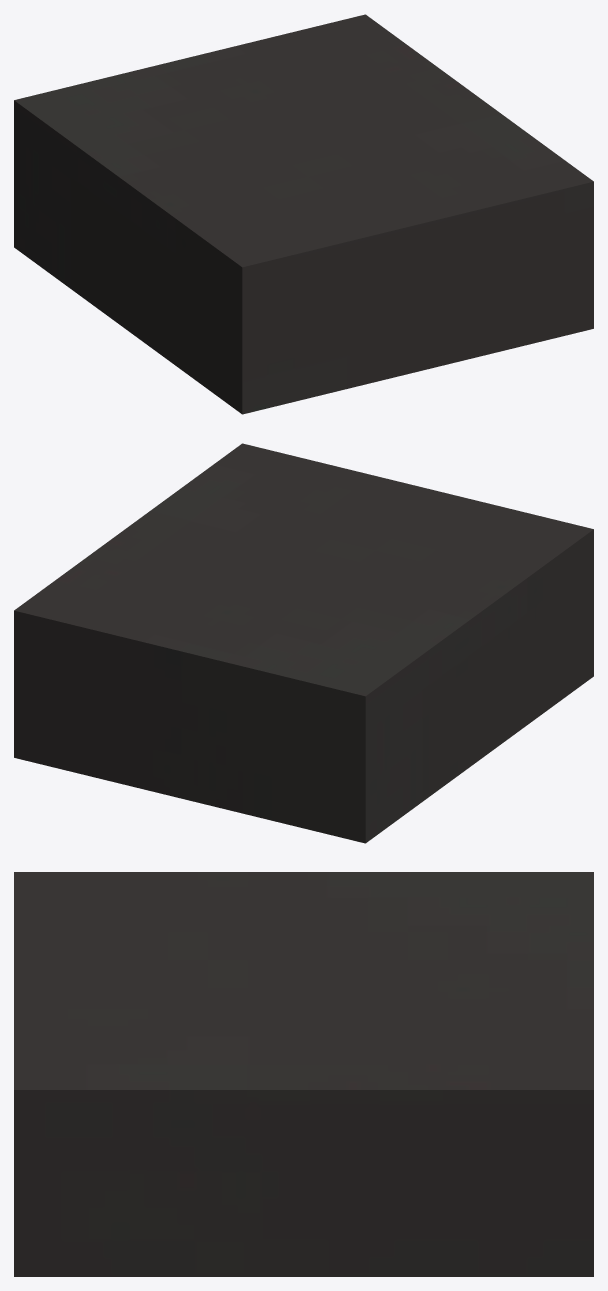
File: back_pad__hinge_web_0.glb
The picture shows the model from 3 angles, top to bottom: view 1: azimuth 30°, elevation 25°; view 2: azimuth 150°, elevation 25°; view 3: azimuth 270°, elevation 25°; orthographic projection. The views are drawn at different scales.
Parts seen in each view (by area): view 1: world; view 2: world; view 3: world.
Part boxes in pixels (x1=…): world: x1=14, y1=14, x2=593, y2=414; world: x1=14, y1=443, x2=593, y2=843; world: x1=14, y1=872, x2=593, y2=1276.
Bounding box in the file's own units: 0.08 × 0.032 × 0.09.
Materials: 1 (1 with a texture image).
